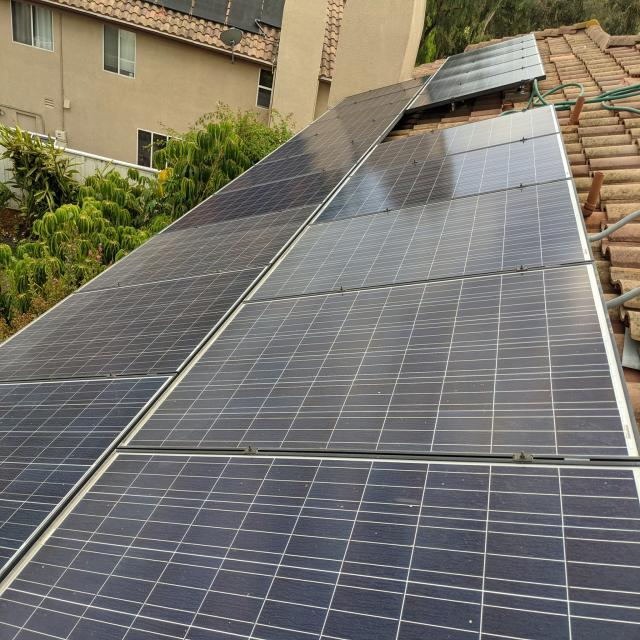dust-solar-panel: (0, 181, 640, 640)
